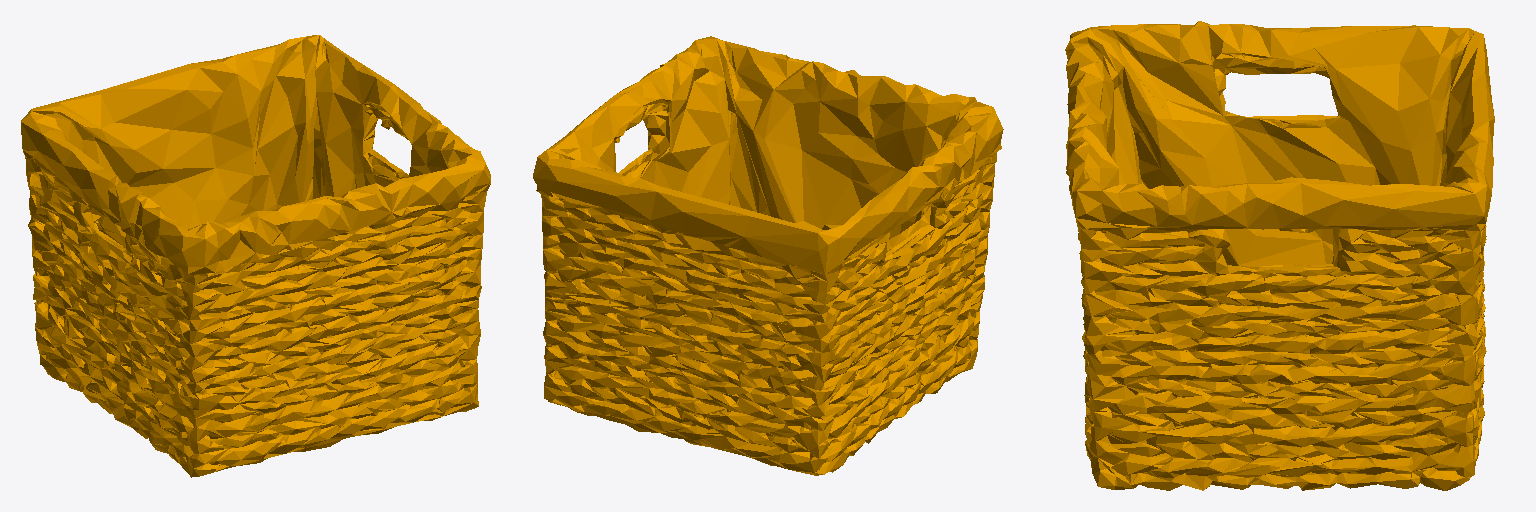
robot.urdf — TargetBasketMedium:
<robot name="TargetBasketMedium">
    <link name="base_link">
        <contact>
            <lateral_friction value="1.0" />
            <inertia_scaling value="3.0" />
        </contact>
        <inertial>
            <origin rpy="0 0 0" xyz="0 0 0" />
            <mass value="0.6443292466565211" />
            <inertia ixx="1" ixy="0" ixz="0" iyy="1" iyz="0" izz="1" />
        </inertial>
        <visual>
            <origin rpy="0 0 0" xyz="0 0 0" />
            <geometry>
                <mesh filename="model_ZU6u5fvE8Z1.obj" rpy="0 0 0" />
            </geometry>
        </visual>
        <collision>
            <origin rpy="0 0 0" xyz="0 0 0" />
            <geometry>
                <mesh filename="model_ZU6u5fvE8Z1_vhacd.obj" rpy="0 0 0" />
            </geometry>
        </collision>
    </link>
</robot>

--- What the picture shows (computed from the rendered views, not written in the file) ---
3 views of the same robot in one strip: view 1: azimuth 30°, elevation 25°; view 2: azimuth 150°, elevation 25°; view 3: azimuth 270°, elevation 25° (orthographic).
Robot: TargetBasketMedium — 1 links, 0 joints (none); root link base_link; default pose: every joint at zero.
Links seen in each view (by area): view 1: base_link; view 2: base_link; view 3: base_link.
Link boxes in pixels (<box>): base_link: <box>21,35,490,477</box>; base_link: <box>533,36,1003,475</box>; base_link: <box>1065,21,1494,490</box>.
Bounding box of the posed robot: 0.2715 × 0.269 × 0.2189 m (x, y, z).
1 mesh visuals loaded from 1 distinct referenced files (1 OBJ).
